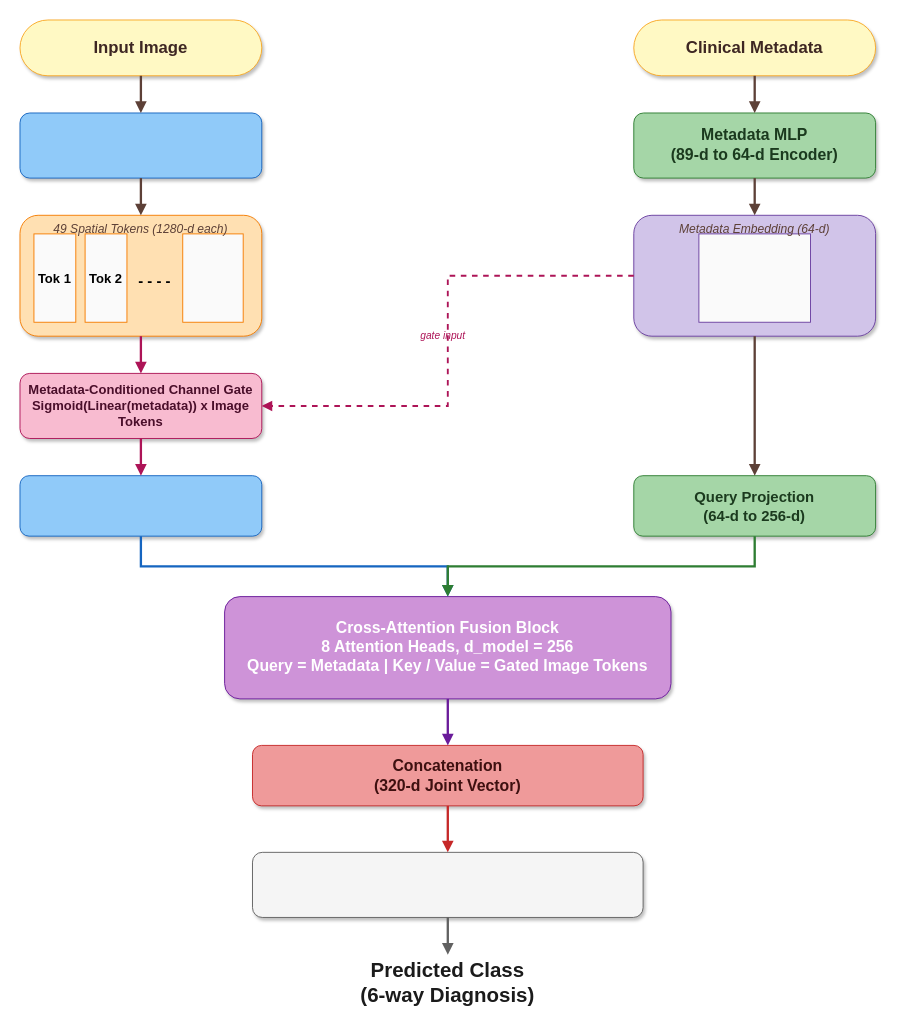
Image size: 897x1027. Some labels were removed from this diagram. The centre of each missing label's shape, as x and y in pixels:
Classifier FC(128) - BatchNorm - ReLU - Dropout - FC(6): [448,886]
EfficientNet-B0 (Pre-trained Image Encoder): [141,146]
Key / Value Projection (1280-d to 256-d): [141,507]
Query: [754,277]
Tok 49: [212,277]
